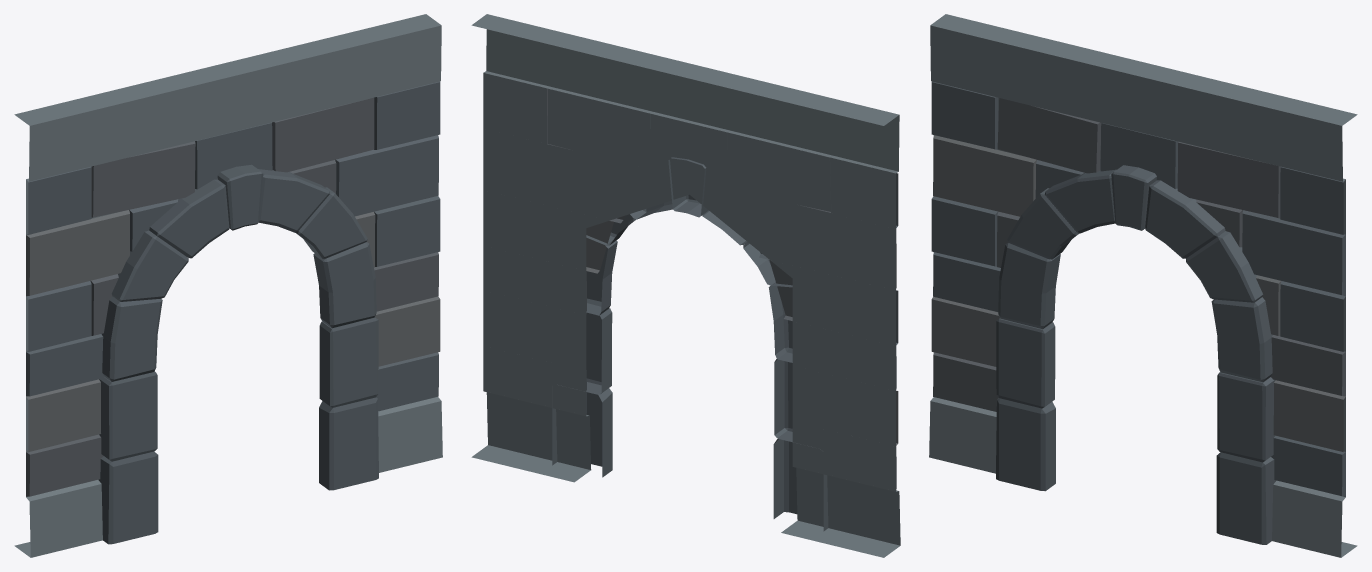
Rendered from Wall_Archway.fbx.
The picture shows the model from 3 angles, left to right: view 1: azimuth 30°, elevation 25°; view 2: azimuth 150°, elevation 25°; view 3: azimuth 330°, elevation 25°; orthographic projection.
Parts seen in each view (by area): view 1: Wall_Archway; view 2: Wall_Archway; view 3: Wall_Archway.
Part boxes in pixels (x1,y1,x2,y2): Wall_Archway: [14, 14, 442, 557]; Wall_Archway: [471, 14, 900, 557]; Wall_Archway: [929, 14, 1357, 557].
Size of the model in its own units: 200 by 200 by 20.54.
